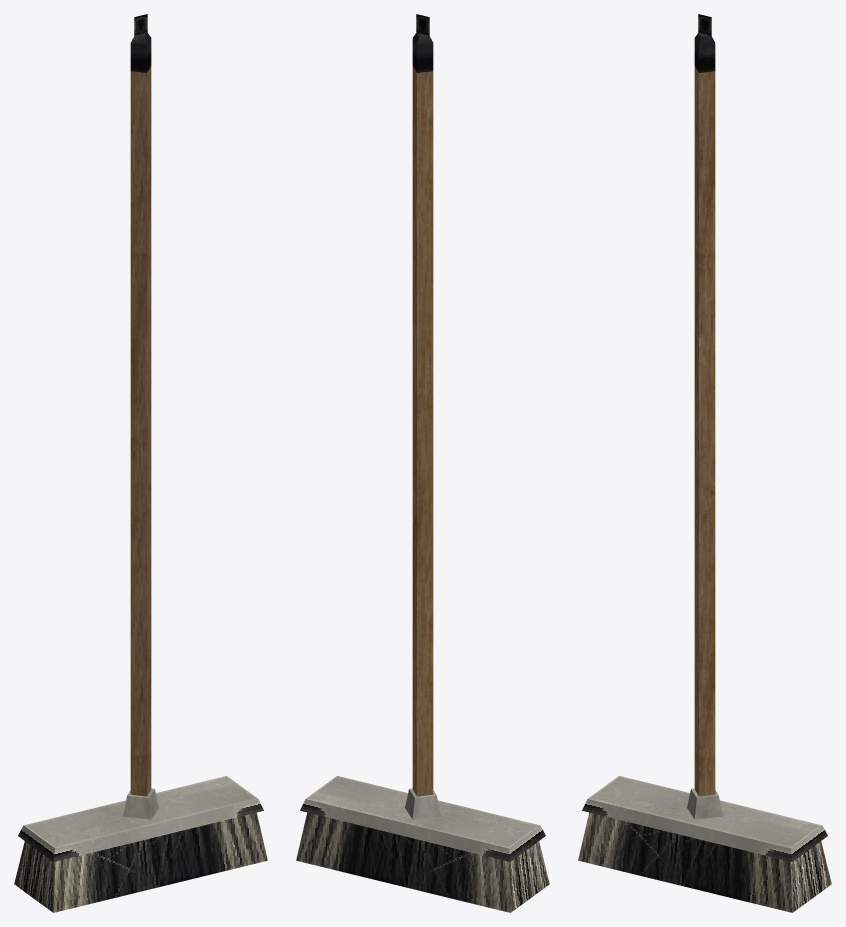
File: broom.glb
The picture shows the model from 3 angles, left to right: view 1: azimuth 30°, elevation 25°; view 2: azimuth 150°, elevation 25°; view 3: azimuth 330°, elevation 25°; orthographic projection.
Parts seen in each view (by area): view 1: broom; view 2: broom; view 3: broom.
Boxes of the visible parts, bbox=[...] form: broom: bbox=[14, 14, 267, 912]; broom: bbox=[296, 14, 549, 912]; broom: bbox=[578, 14, 831, 912].
Bounding box in the file's own units: 0.3815 × 1.45 × 0.1211.
2 materials, 2 textured.
